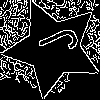J: (28, 23, 81, 66)
